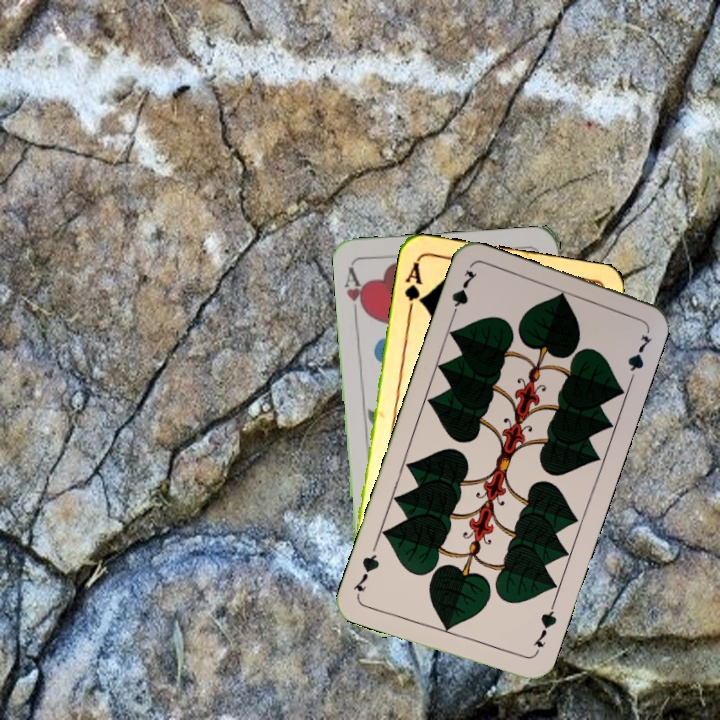G7: (447, 266, 480, 323), (529, 600, 560, 650)
GA: (400, 258, 426, 317)
HA: (341, 263, 370, 322)
